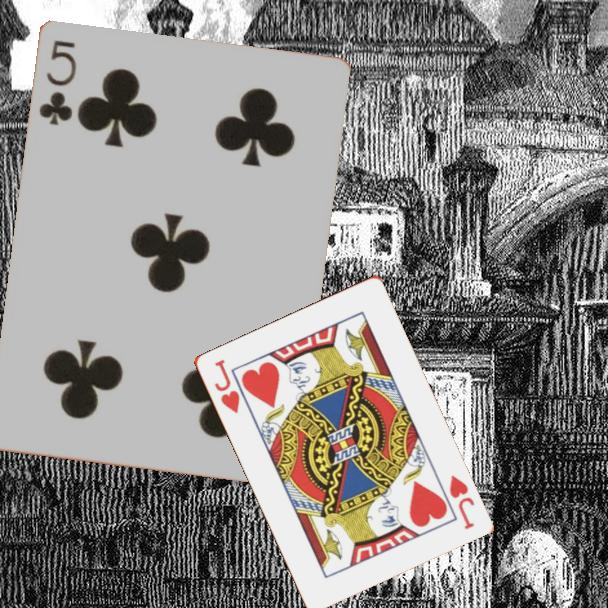c05: (35, 37, 80, 129)
h11: (210, 355, 242, 417), (445, 471, 477, 532)
